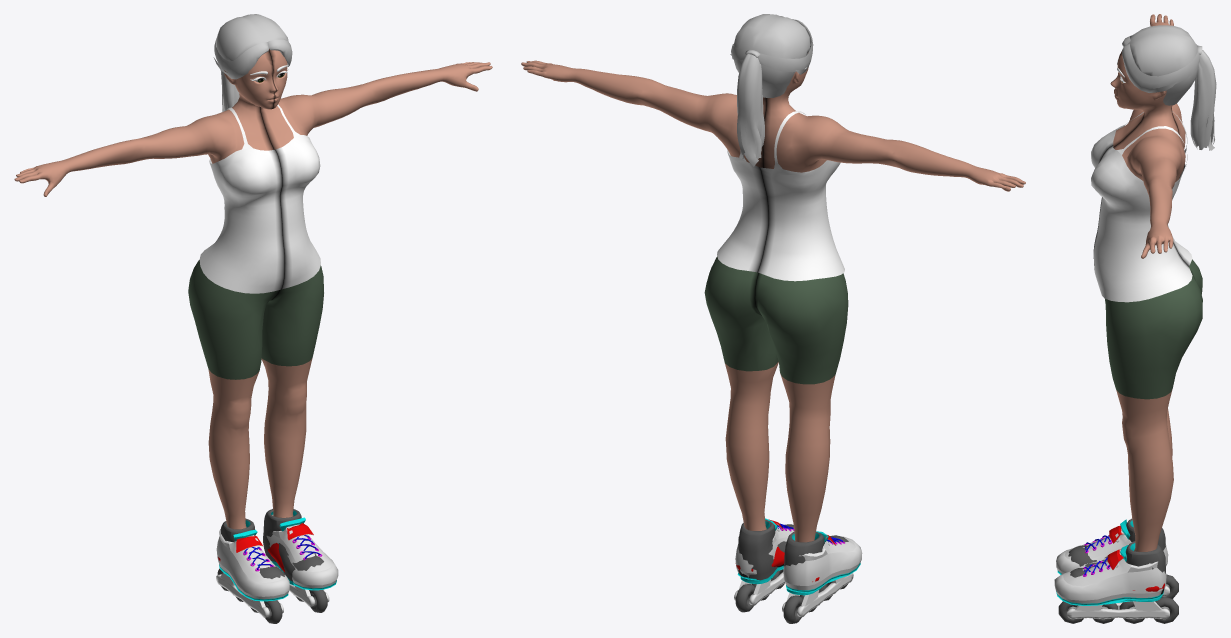
File: Girl with BS.fbx
3 views of the same model, side by side, from view 1: azimuth 30°, elevation 25°; view 2: azimuth 150°, elevation 25°; view 3: azimuth 270°, elevation 25° (orthographic). The views are drawn at different scales.
Parts seen in each view (by area): view 1: Body, Hair, pasted__Right_Shoes, pasted__Left_Shoes, Roller_Left_shoes, Roller_Right_shoes; view 2: Body, Hair, Roller_Left_shoes, pasted__Right_Shoes, Roller_Right_shoes, pasted__Left_Shoes; view 3: Body, Hair, pasted__Left_Shoes, Roller_Left_shoes, pasted__Right_Shoes, Roller_Right_shoes.
Part boxes in pixels (bbox=[...]): Body: bbox=[14, 49, 492, 529]; Hair: bbox=[213, 14, 292, 111]; pasted__Right_Shoes: bbox=[216, 529, 289, 601]; pasted__Left_Shoes: bbox=[266, 515, 338, 590]; Roller_Left_shoes: bbox=[263, 509, 329, 612]; Roller_Right_shoes: bbox=[216, 518, 284, 623]; Body: bbox=[521, 53, 1025, 542]; Hair: bbox=[730, 14, 813, 166]; Roller_Left_shoes: bbox=[734, 518, 793, 612]; pasted__Right_Shoes: bbox=[783, 535, 862, 592]; Roller_Right_shoes: bbox=[782, 531, 853, 623]; pasted__Left_Shoes: bbox=[735, 519, 794, 580]; Body: bbox=[1091, 14, 1202, 551]; Hair: bbox=[1122, 25, 1216, 150]; pasted__Left_Shoes: bbox=[1054, 549, 1166, 605]; Roller_Left_shoes: bbox=[1058, 541, 1178, 623]; pasted__Right_Shoes: bbox=[1056, 525, 1168, 574]; Roller_Right_shoes: bbox=[1068, 518, 1178, 598].
Bounding box in the file's own units: 0.1013 × 0.1152 × 0.0291.
